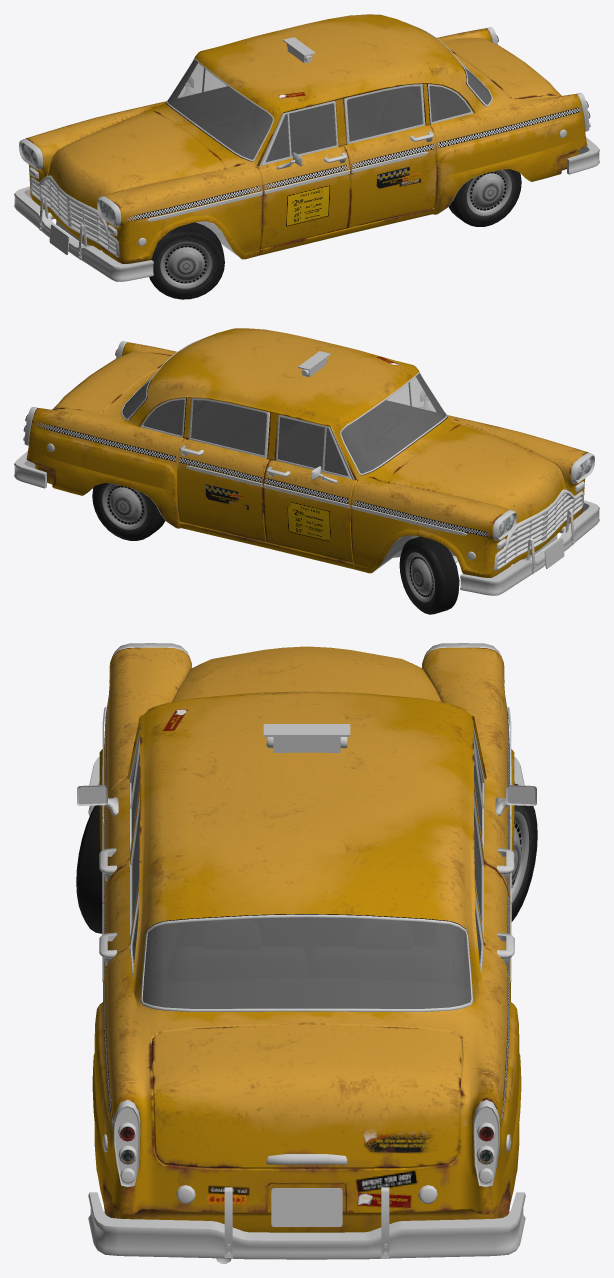
The model's file is Taxicab_old.fbx.
3 views of the same model, one above another, from view 1: azimuth 30°, elevation 25°; view 2: azimuth 150°, elevation 25°; view 3: azimuth 270°, elevation 25° (orthographic). The views are drawn at different scales.
Parts seen in each view (by area): view 1: Body, Fenders_Front, Hood, Door_RL, Door_FL, Seats, Windshield, Wheel_FL, Trunk_door, Bumper_front, Door_Glass_RL, Wheel_RL (+15 smaller); view 2: Body, Fenders_Front, Hood, Door_RR, Door_FR, Seats, Windshield, Wheel_FR, Trunk_door, Bumper_front, Door_Glass_RR, Wheel_RR (+16 smaller); view 3: Body, Trunk_door, Rear_windows, Seats, Bumper_rear, Fenders_Front, Interior, Hood, Taillights, Windows_trim, Numberplate_rear, Wheel_FL (+14 smaller).
Boxes of the visible parts, left/top/right/bottom form: Body: left=147, top=14, right=587, bottom=255; Fenders_Front: left=25, top=101, right=263, bottom=263; Hood: left=48, top=110, right=225, bottom=209; Door_RL: left=344, top=124, right=436, bottom=228; Door_FL: left=256, top=145, right=350, bottom=249; Seats: left=248, top=86, right=436, bottom=162; Windshield: left=167, top=60, right=272, bottom=159; Wheel_FL: left=149, top=222, right=224, bottom=299; Trunk_door: left=442, top=38, right=561, bottom=99; Bumper_front: left=14, top=186, right=153, bottom=281; Door_Glass_RL: left=347, top=86, right=422, bottom=141; Wheel_RL: left=448, top=169, right=521, bottom=226; Body: left=26, top=328, right=466, bottom=569; Fenders_Front: left=350, top=415, right=588, bottom=577; Hood: left=387, top=424, right=565, bottom=523; Door_RR: left=177, top=438, right=269, bottom=541; Door_FR: left=263, top=459, right=357, bottom=563; Seats: left=177, top=400, right=380, bottom=475; Windshield: left=341, top=374, right=446, bottom=473; Wheel_FR: left=399, top=536, right=459, bottom=614; Trunk_door: left=52, top=351, right=172, bottom=413; Bumper_front: left=460, top=500, right=599, bottom=595; Door_Glass_RR: left=191, top=400, right=266, bottom=455; Wheel_RR: left=92, top=483, right=165, bottom=540; Body: left=92, top=691, right=521, bottom=1232; Trunk_door: left=151, top=1024, right=462, bottom=1168; Rear_windows: left=131, top=898, right=482, bottom=1008; Seats: left=167, top=914, right=447, bottom=983; Bumper_rear: left=88, top=1187, right=525, bottom=1259; Fenders_Front: left=99, top=647, right=514, bottom=851; Interior: left=132, top=753, right=481, bottom=1008; Hood: left=172, top=646, right=441, bottom=702; Taillights: left=114, top=1099, right=499, bottom=1186; Windows_trim: left=130, top=890, right=483, bottom=1011; Numberplate_rear: left=271, top=1188, right=342, bottom=1226; Wheel_FL: left=76, top=805, right=102, bottom=933.
Bounding box in the file's own units: 209 × 84.09 × 71.52.
